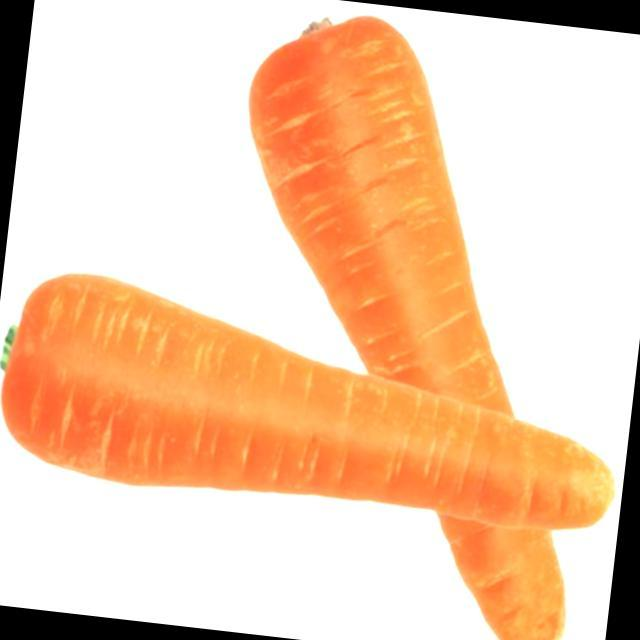carrot: (250, 18, 562, 640), (2, 275, 612, 529)
